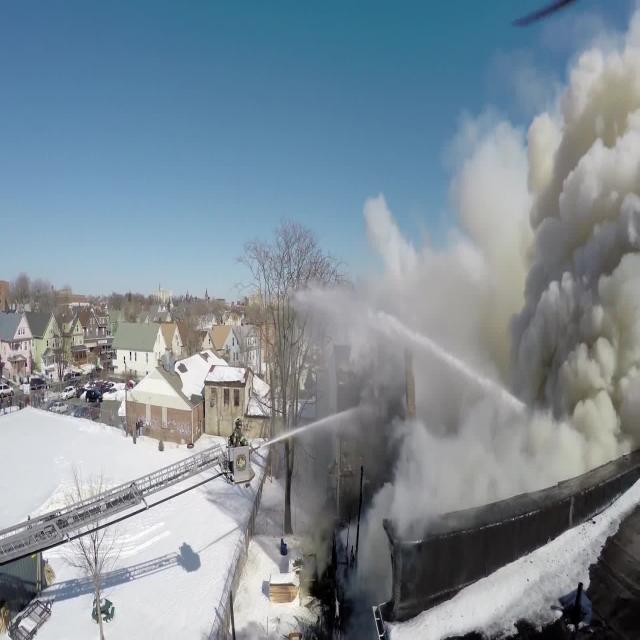smoke: (492, 92, 640, 458), (365, 226, 484, 507)
